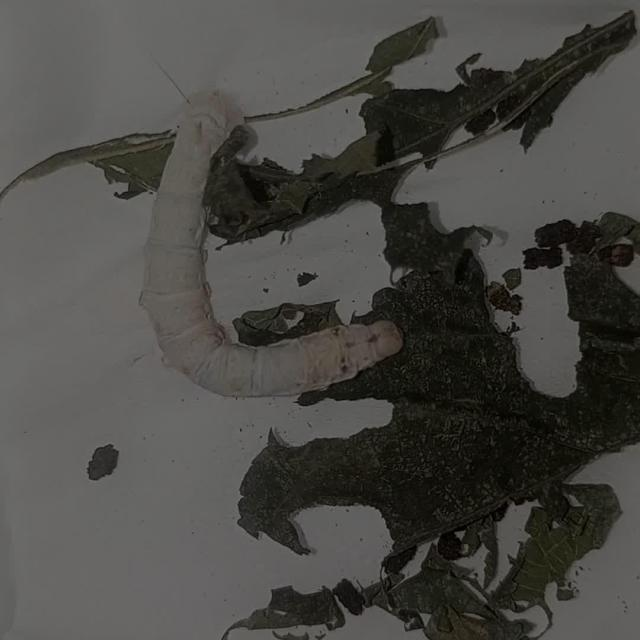Healthy: (114, 64, 419, 420)
